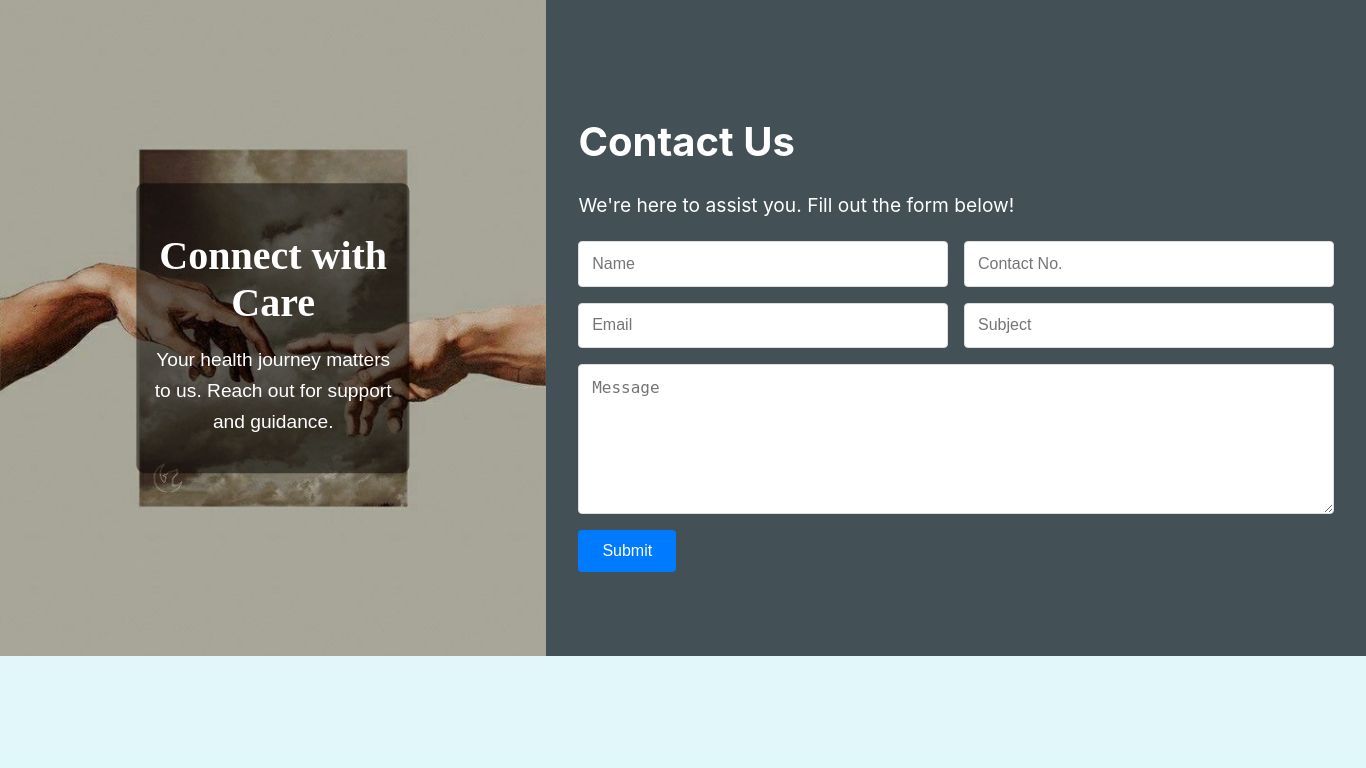
ContactPage › displays error message on form submission failure
Fill out the form
In the field with placeholder "Name": (763, 264) [578,241,948,287], type "John Doe"
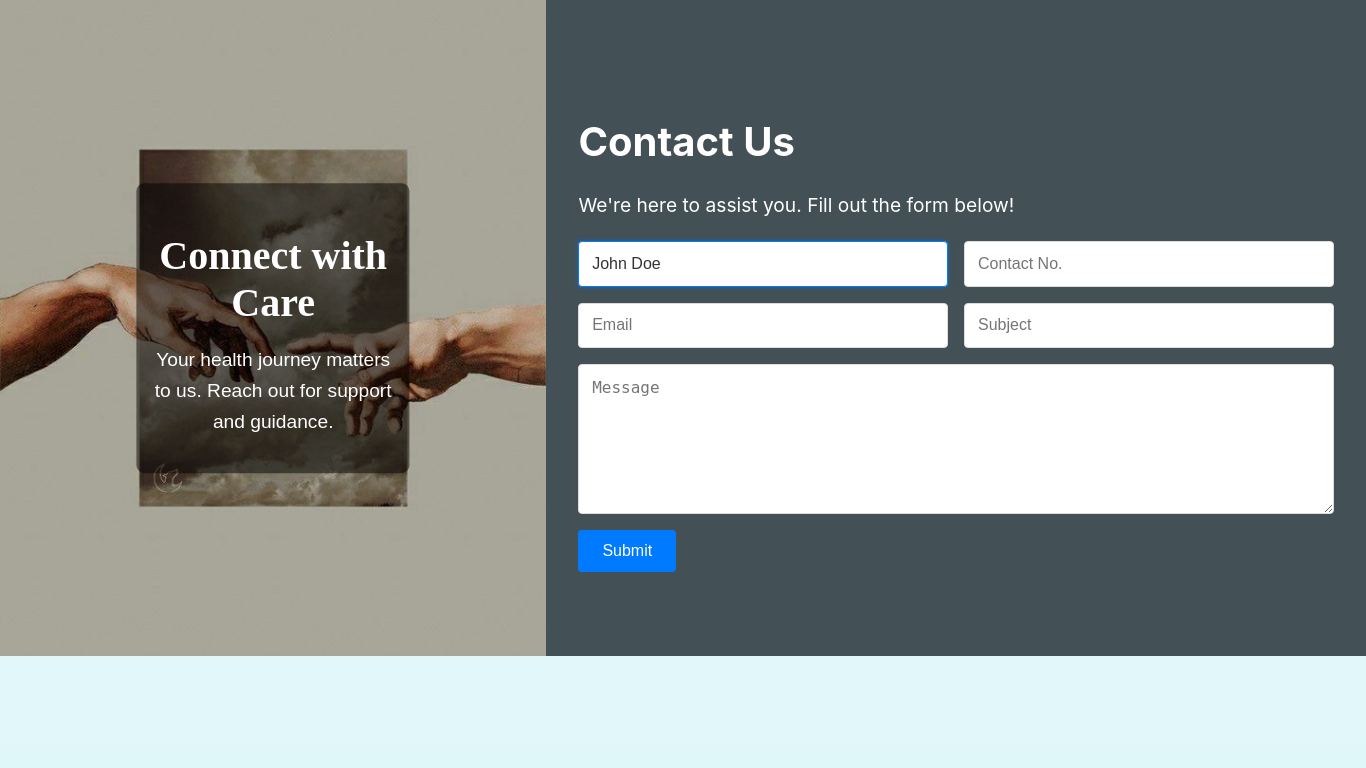
In the field with placeholder "Contact No.": (1149, 264) [964,241,1334,287], type "1234567890"
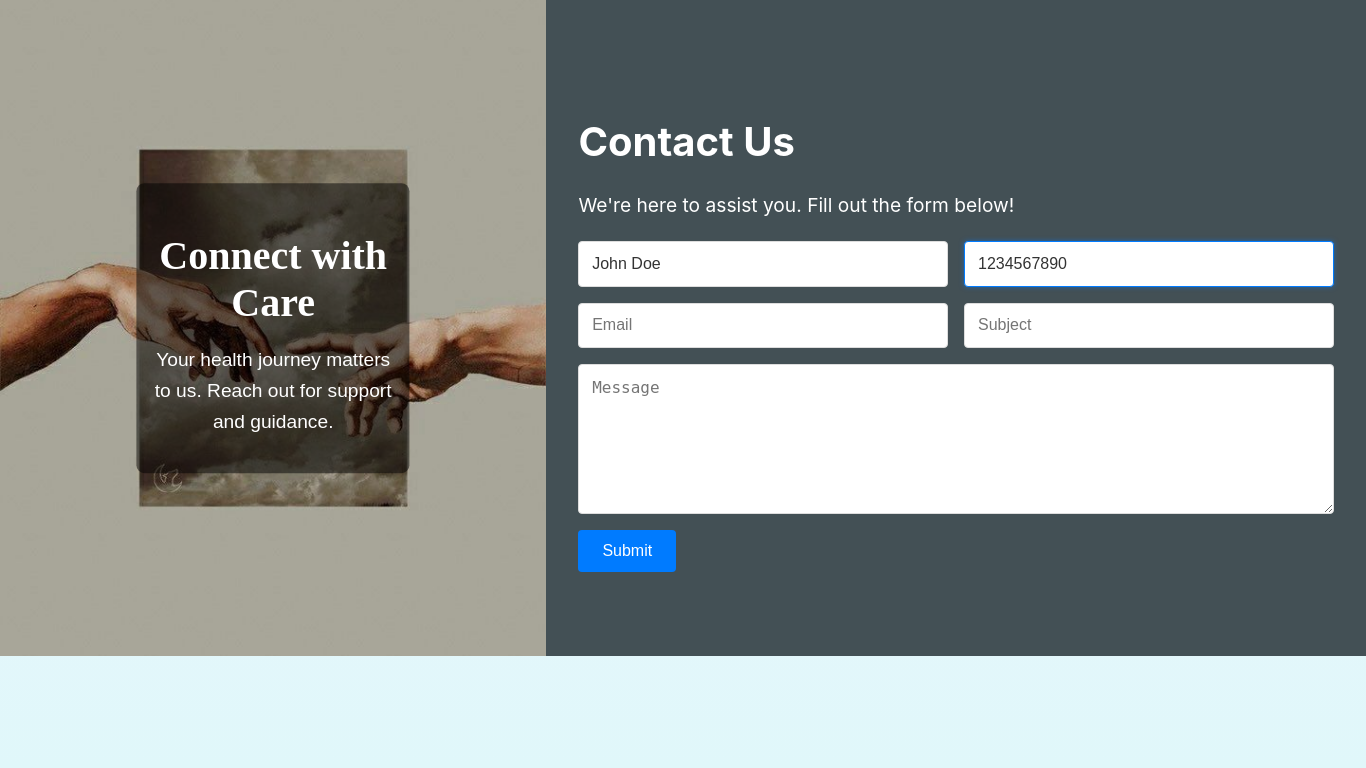
In the field with placeholder "Email": (763, 326) [578,303,948,348], type "john.doe@example.com"
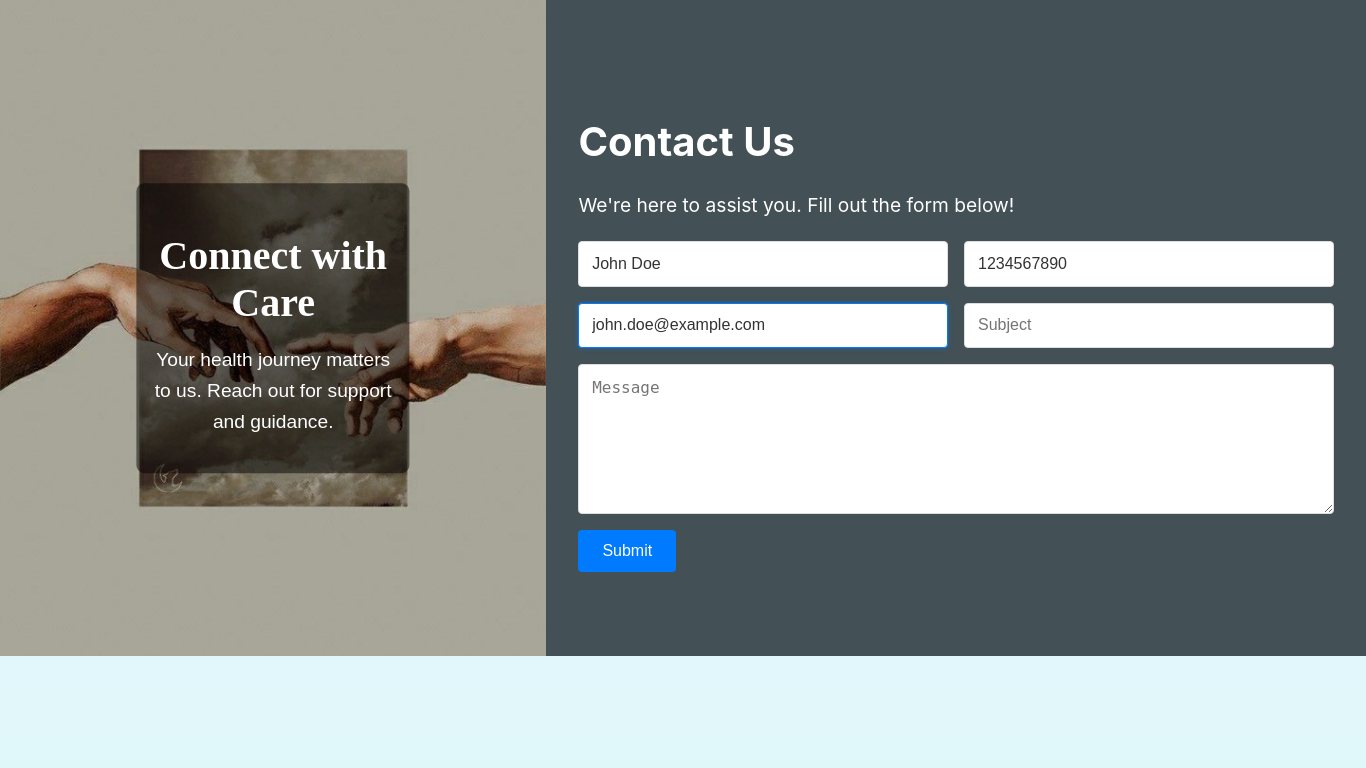
In the field with placeholder "Subject": (1149, 326) [964,303,1334,348], type "Test Subject"
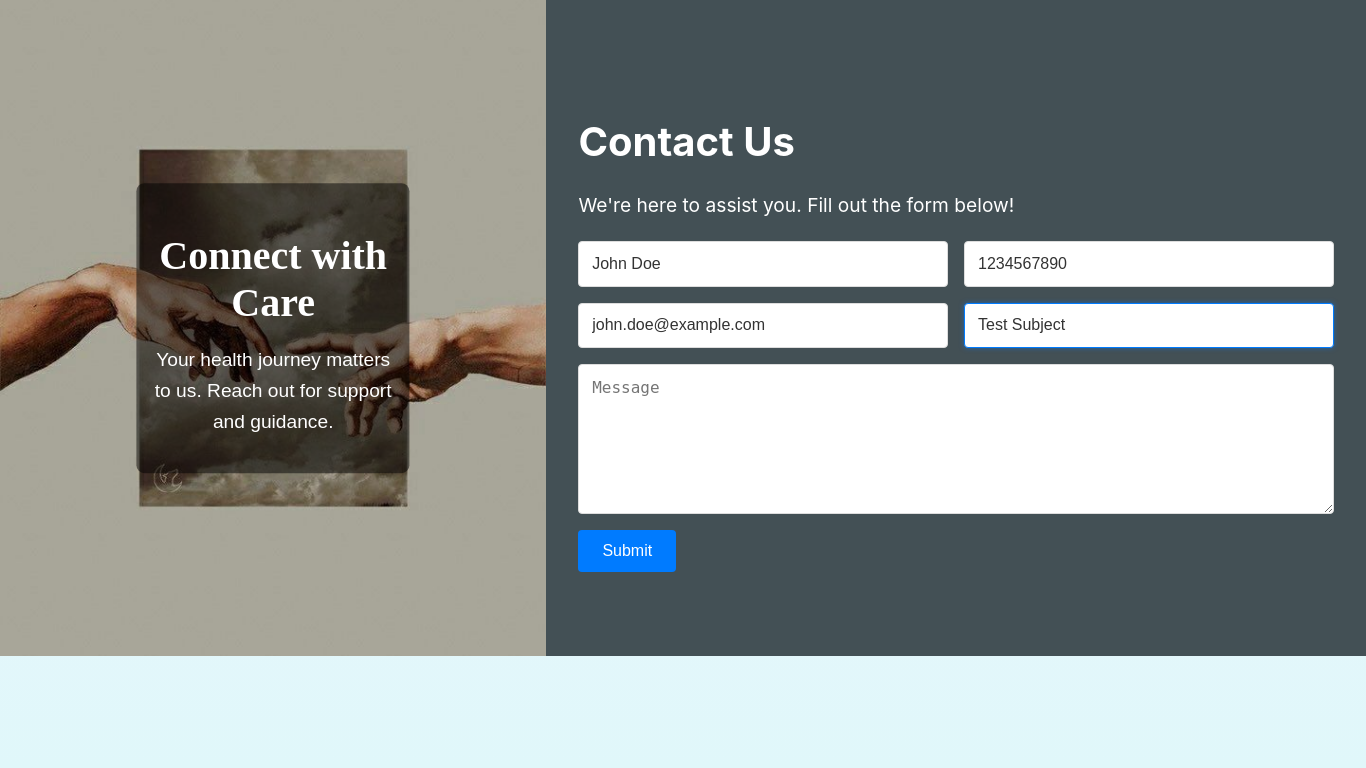
In the text box with placeholder "Message": (956, 439) [578,364,1334,514], type "This is a test message."
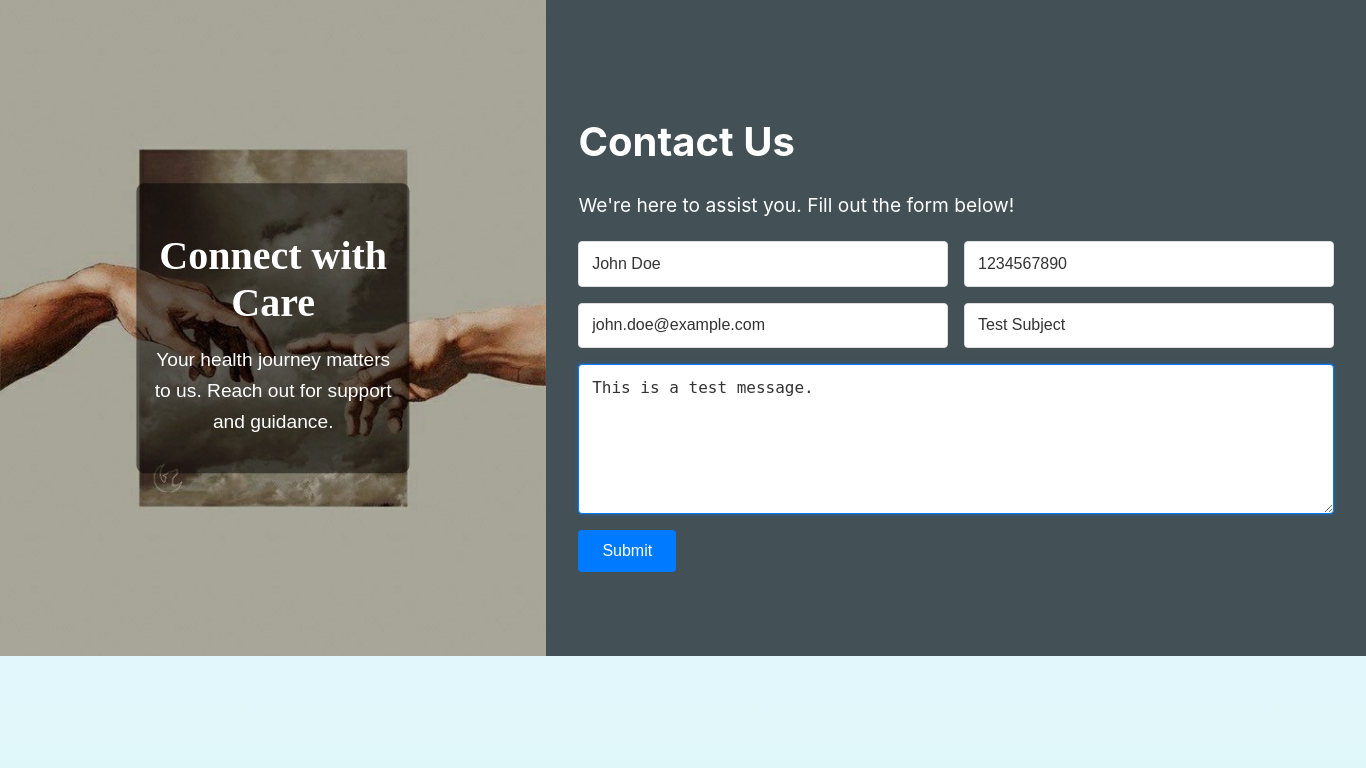
Submit the form
Click the button "Submit": (627, 551) [578,530,676,572]
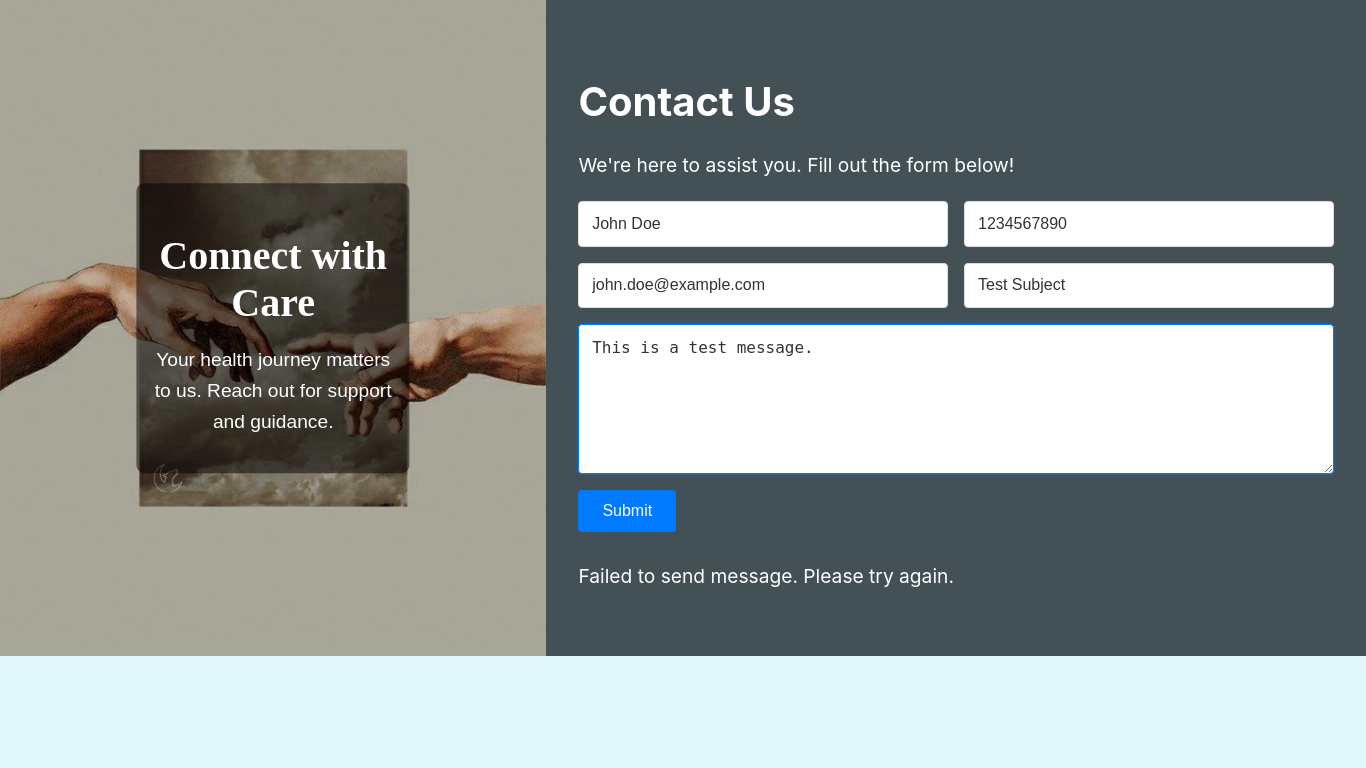
Now the text "Failed to send message. Please try again." is shown, box [578,564,954,588]
